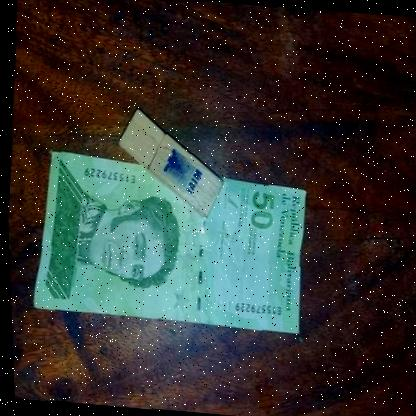fifty-front-vef: (26, 150, 312, 335)
